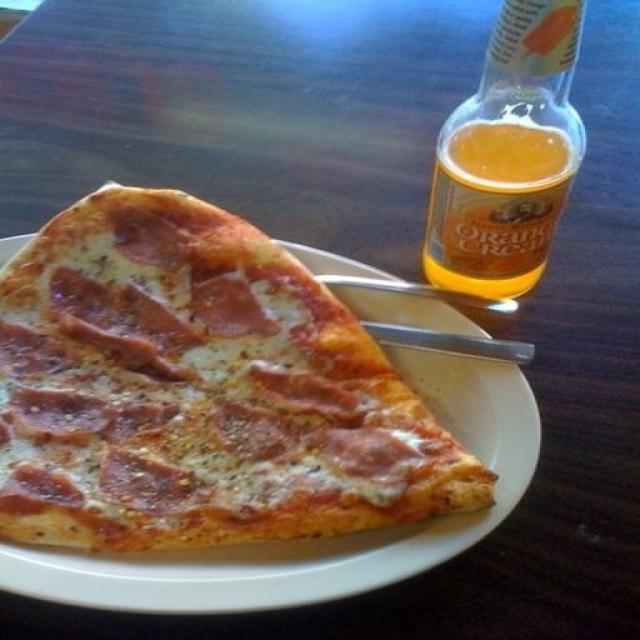Ham: (53, 266, 199, 353), (17, 384, 149, 434), (108, 448, 212, 505), (118, 209, 206, 273), (247, 363, 351, 415), (204, 279, 286, 338), (332, 430, 413, 475), (0, 326, 76, 373), (212, 416, 285, 456)
Pizza: (0, 181, 501, 546)
